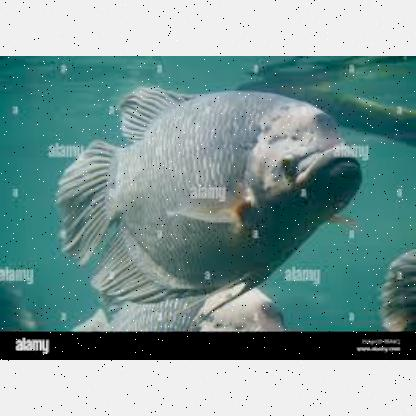gurame: (52, 87, 362, 329)
